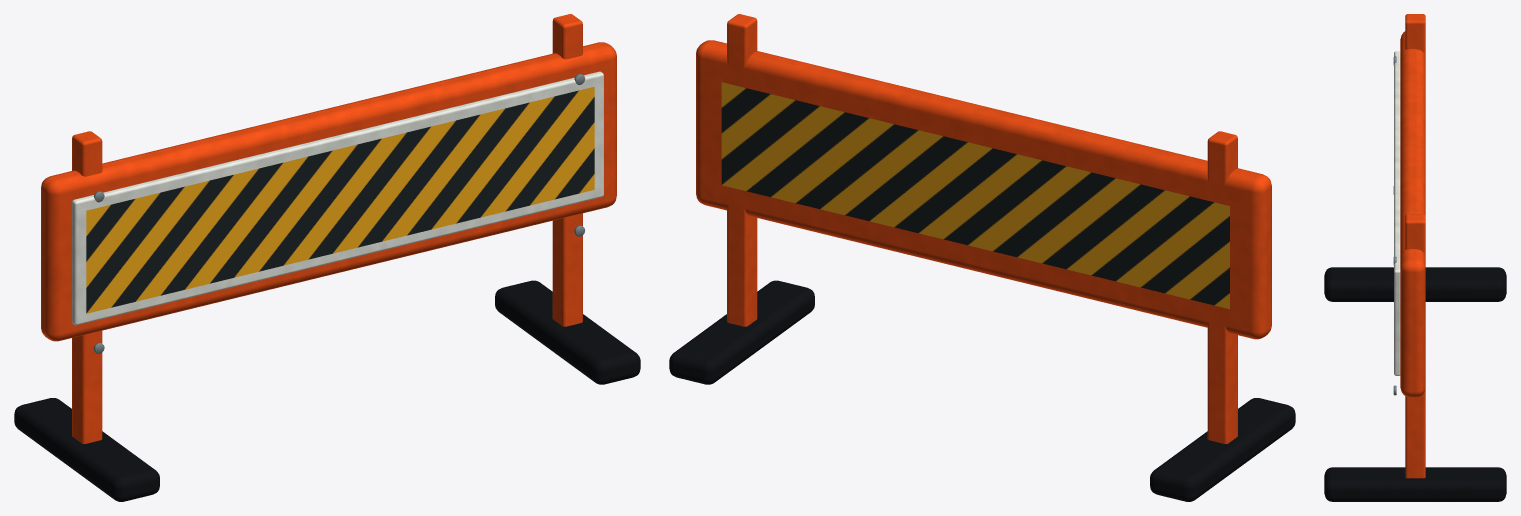
File: CSE_SafetyBarrier.fbx
The picture shows the model from 3 angles, left to right: view 1: azimuth 30°, elevation 25°; view 2: azimuth 150°, elevation 25°; view 3: azimuth 270°, elevation 25°; orthographic projection. The views are drawn at different scales.
Visible parts, largest first — view 1: CSE_SafetyBarrier; view 2: CSE_SafetyBarrier; view 3: CSE_SafetyBarrier.
Part boxes in pixels (x1,y1,x2,y2): CSE_SafetyBarrier: [14, 14, 640, 501]; CSE_SafetyBarrier: [669, 14, 1295, 501]; CSE_SafetyBarrier: [1324, 14, 1506, 501].
Size of the model in its own units: 185 by 101 by 60.
